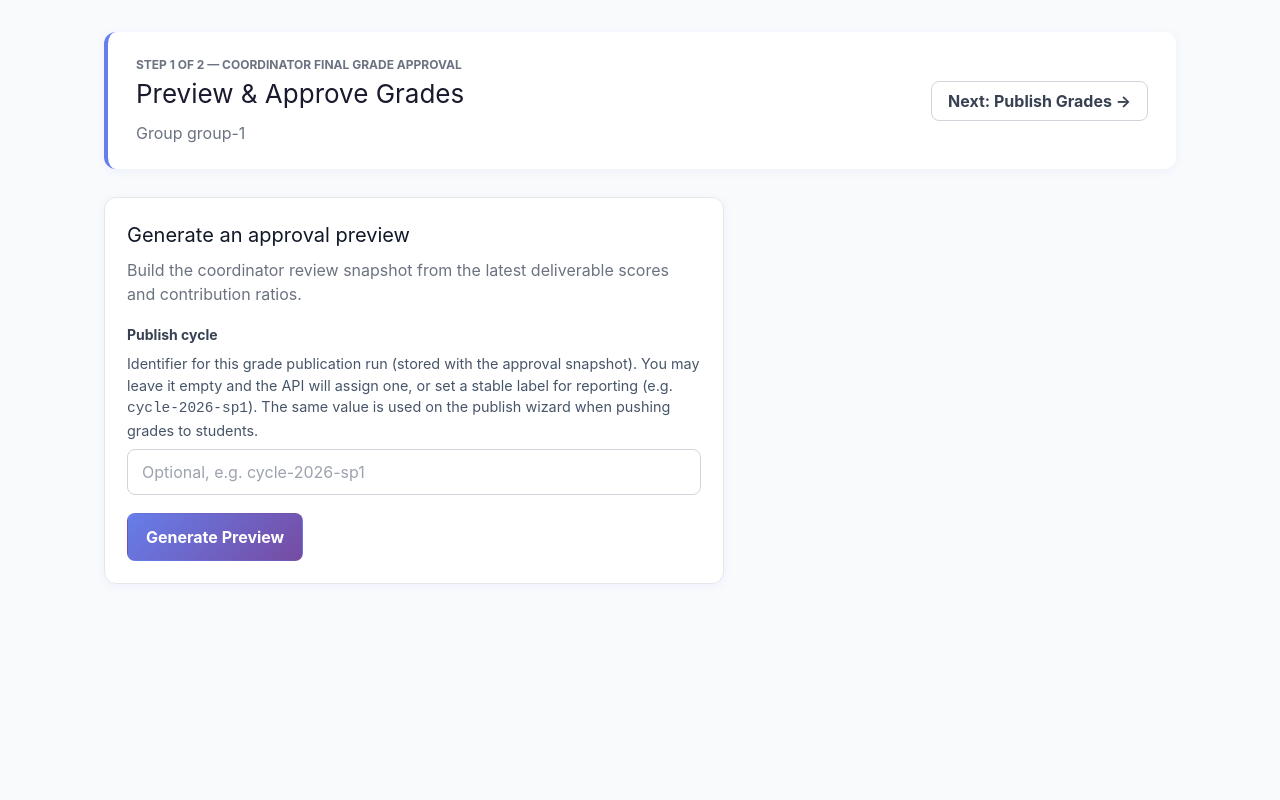
Test: CoordinatorFinalGradeApprovalPanel › submits approval with publishCycle and override entries
Click the button "Generate Preview". click: (215, 537)
box: [127,513,303,561]
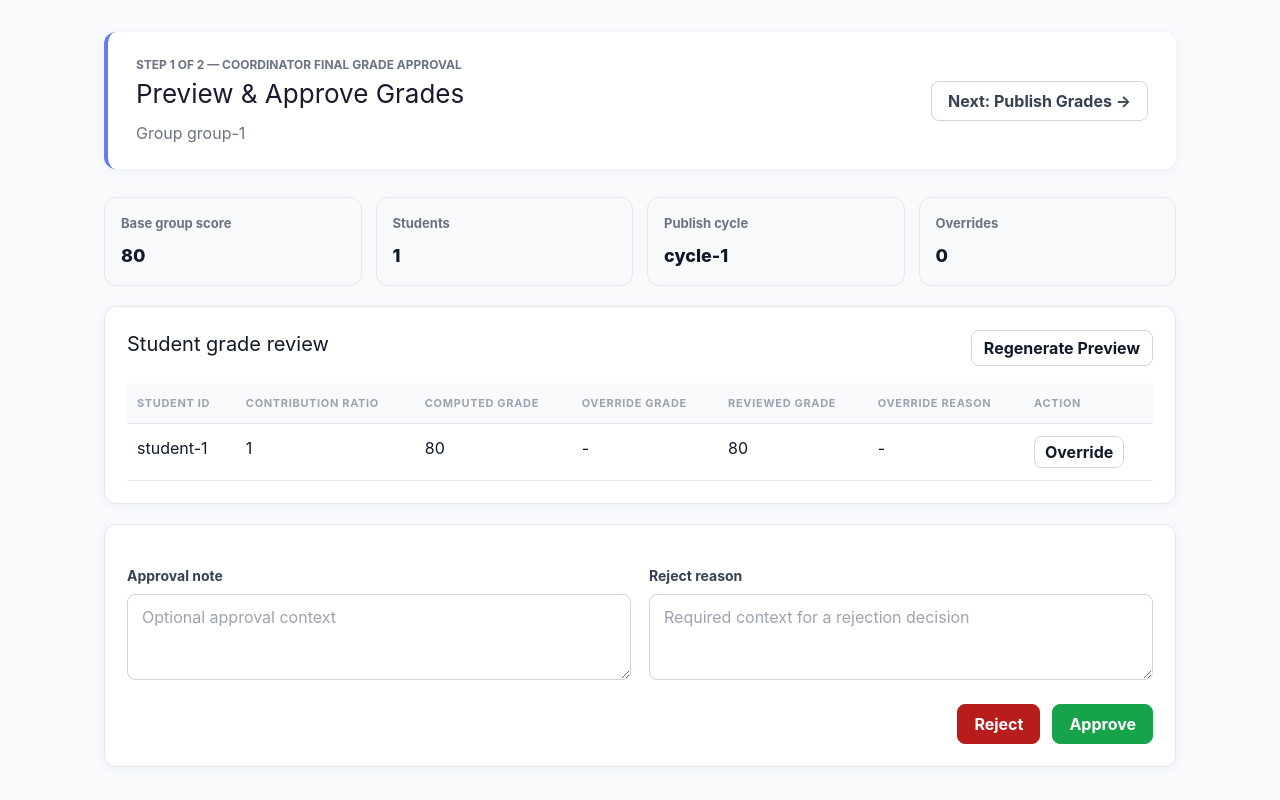
Expected: the text "student-1" is shown, [127,424,236,480]
Click the button "Override". click: (1079, 452)
box: [1034,436,1124,468]
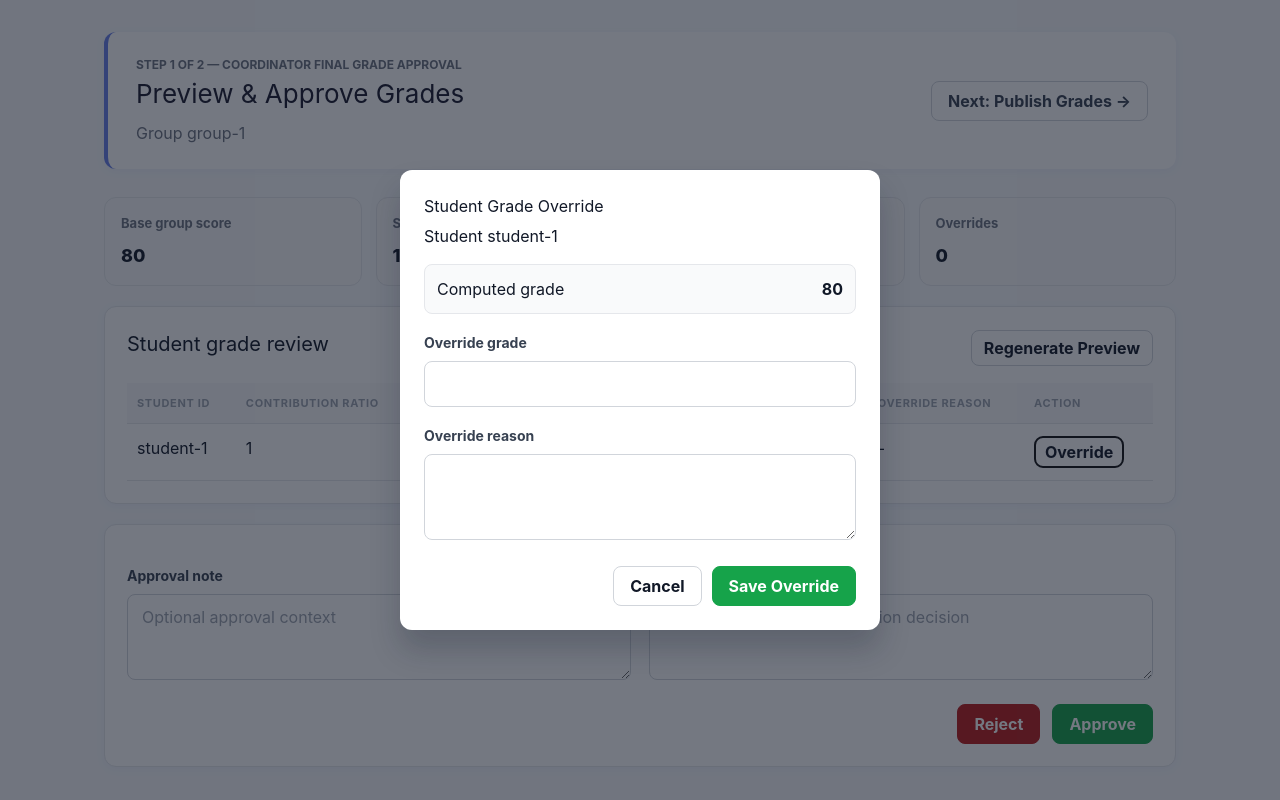
Type "85" into the number field labelled "Override grade". click: (640, 384)
box: [424,361,856,407]
Type "Strong contribution" into the text box labelled "Override reason". click: (640, 497)
box: [424,454,856,540]
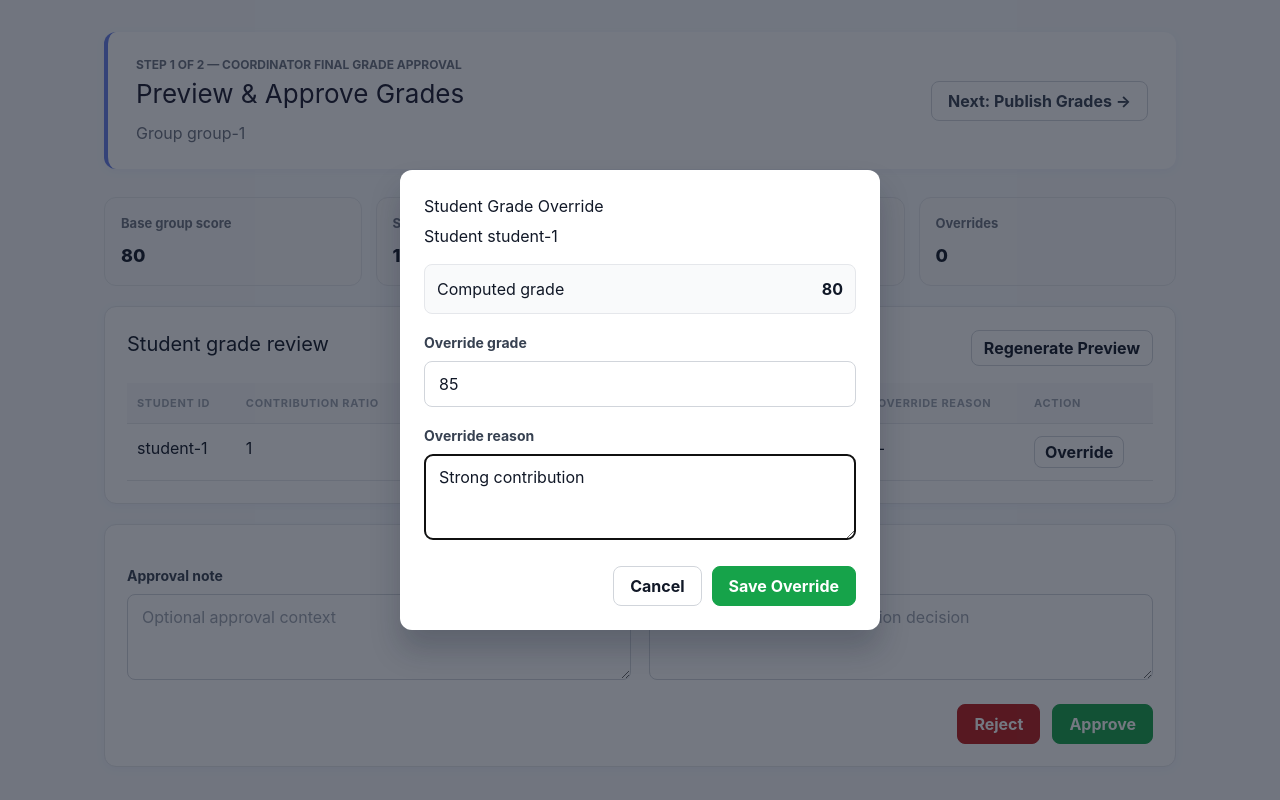
Click the button "Save Override". click: (784, 586)
box: [712,566,856,606]
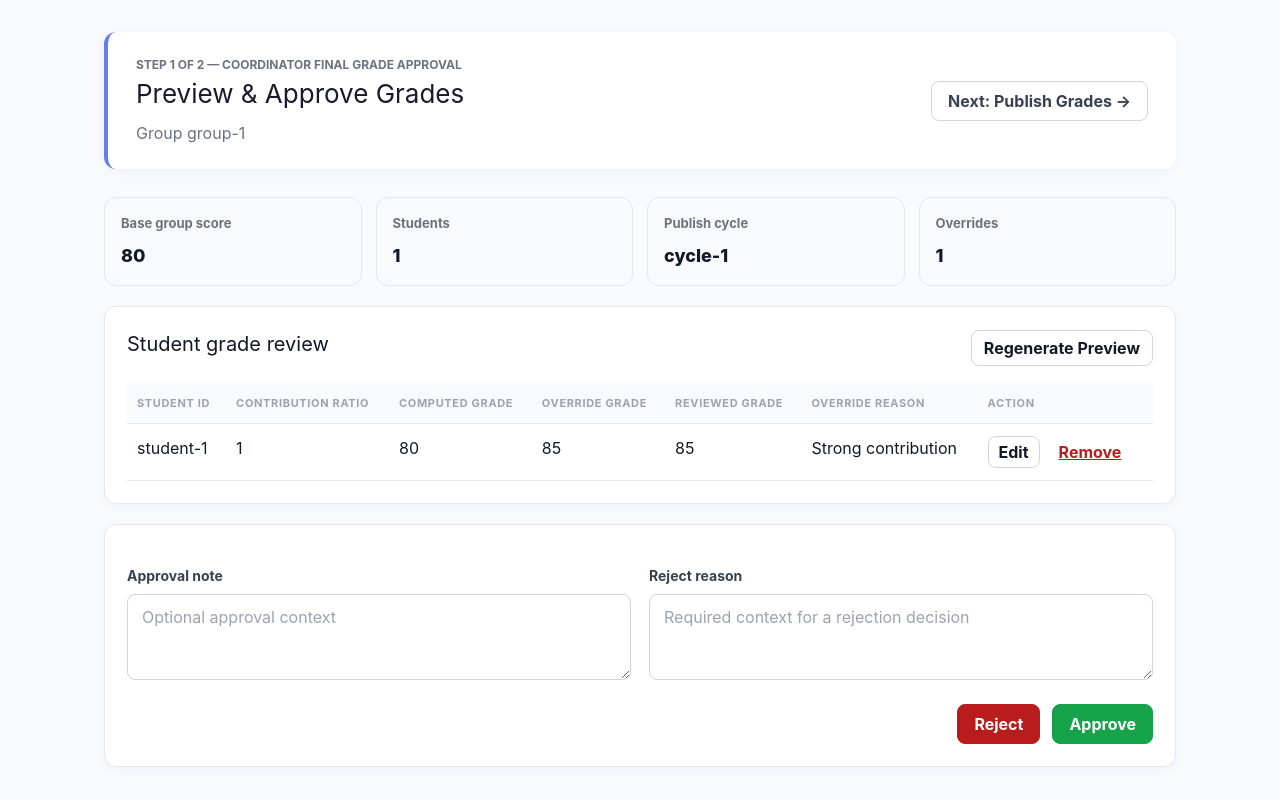
Expected: the text "Strong contribution" is shown, [801,424,978,480]
Type "Looks good" into the text box labelled "Approval note". click: (379, 637)
box: [127,594,631,680]
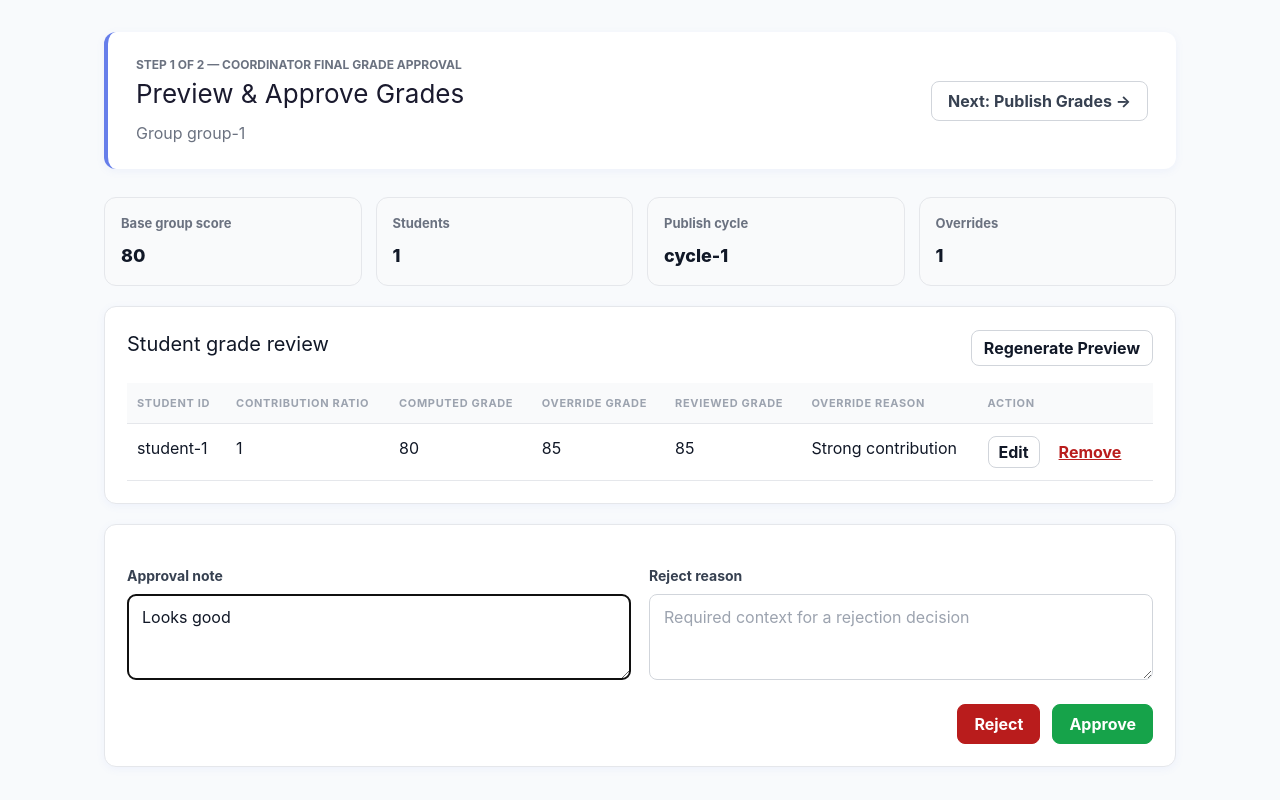
Click the button "Approve". click: (1103, 724)
box: [1052,704,1153,744]
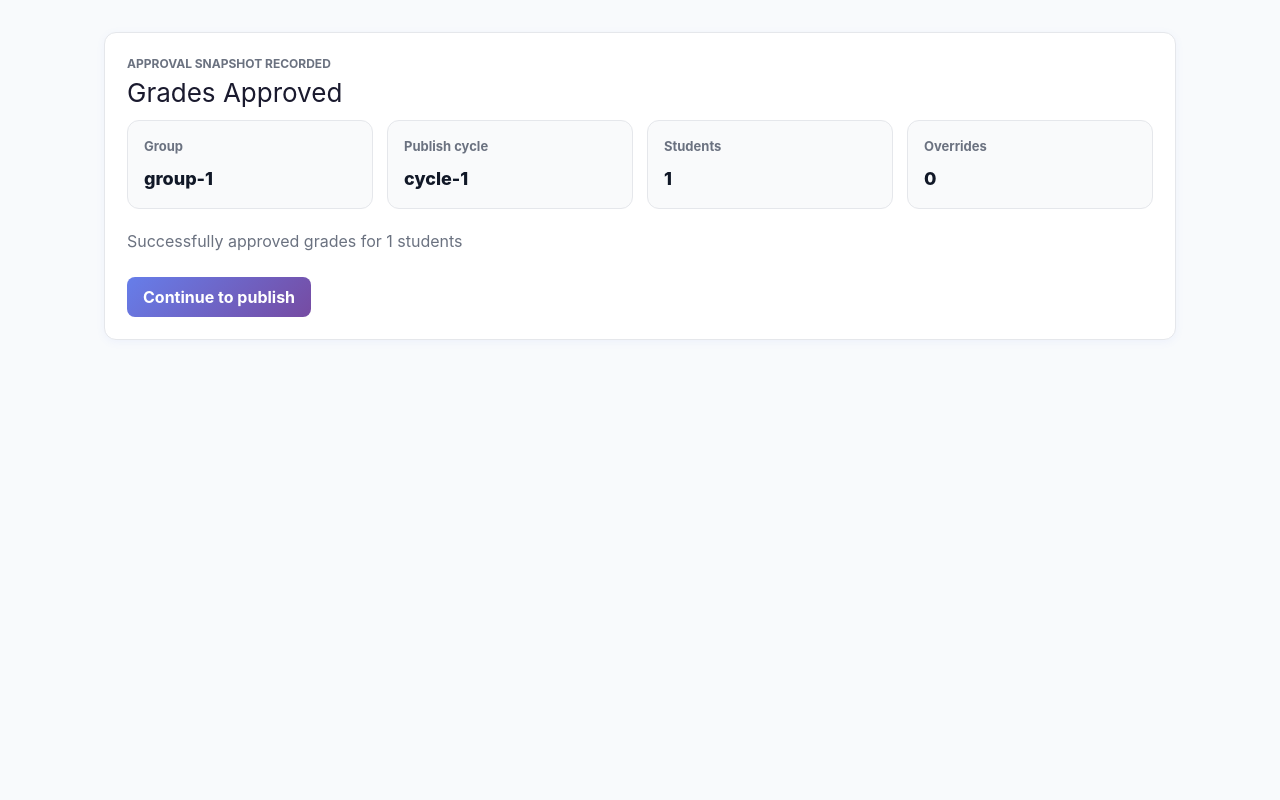
Expected: the heading "Grades Approved" is shown, [127,77,342,108]
